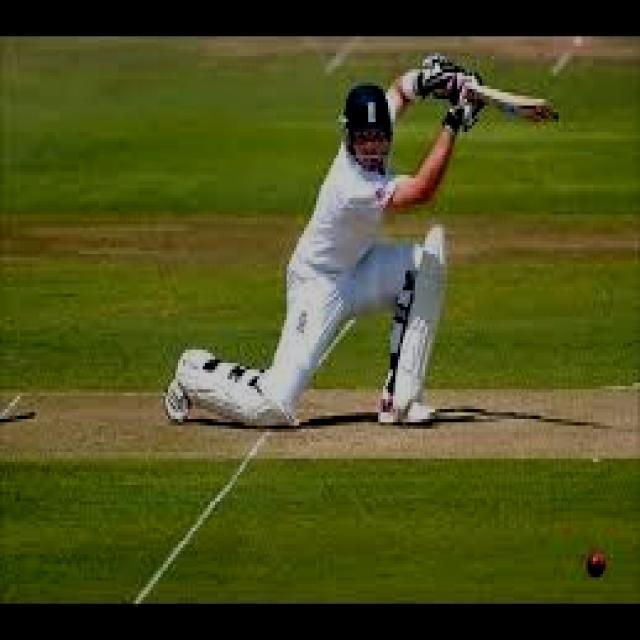bat: (459, 80, 555, 127)
toe: (538, 97, 559, 124)
